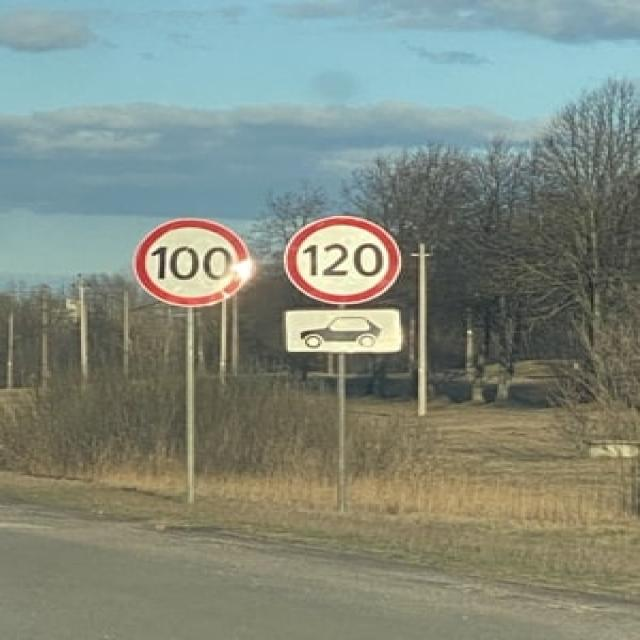Speed Limit -100-: (150, 245, 234, 281)
Speed Limit -120-: (302, 243, 384, 278)
